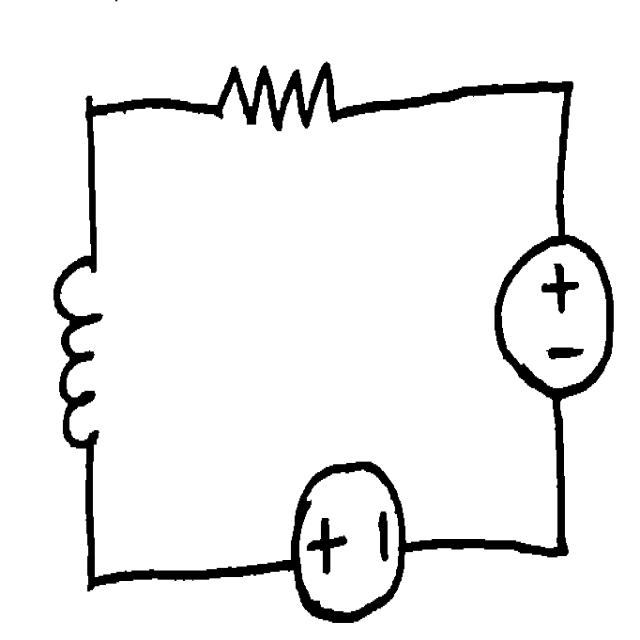dc: (487, 216, 621, 408), (285, 453, 411, 632)
inductor: (46, 237, 113, 459)
resistor: (209, 54, 355, 141)
